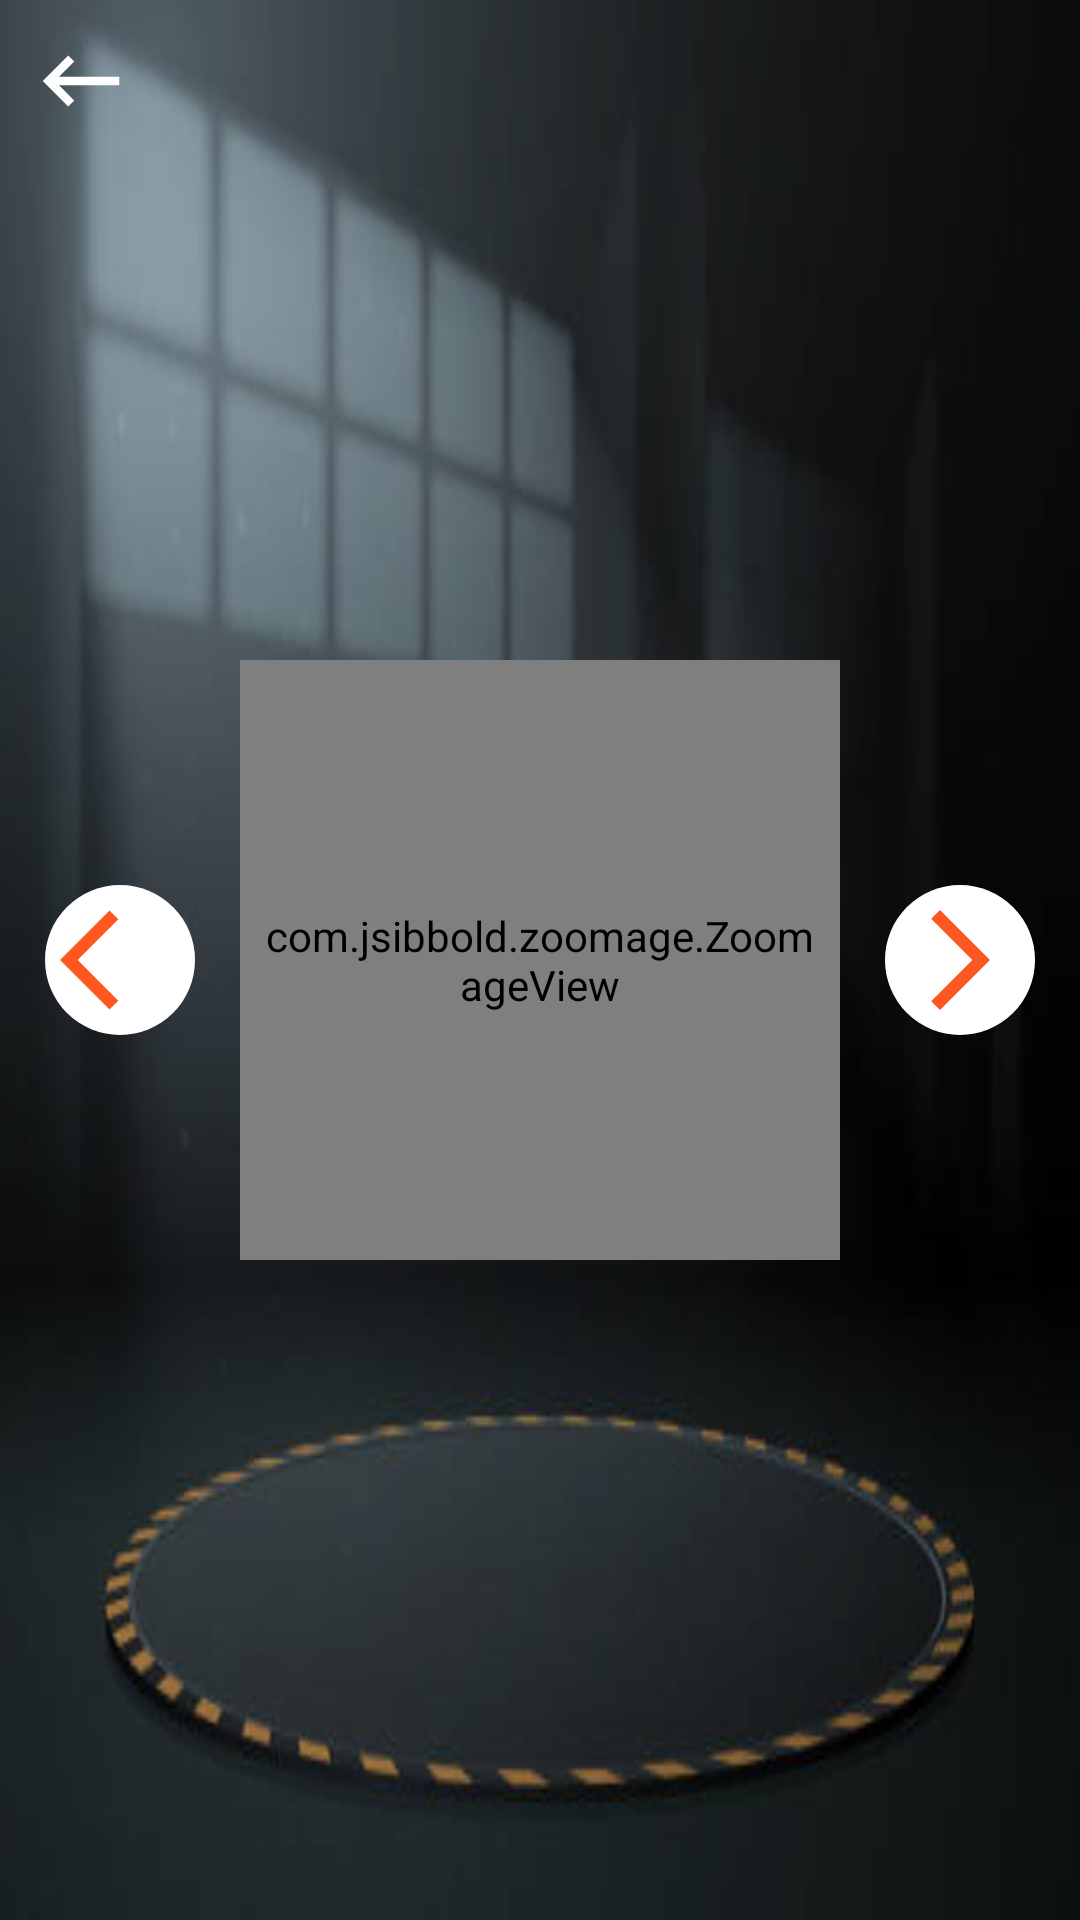

Named icons in this screenshot (1080 x 1920) and their centers, (x,y):
next: (960,960)
prev: (120,960)
